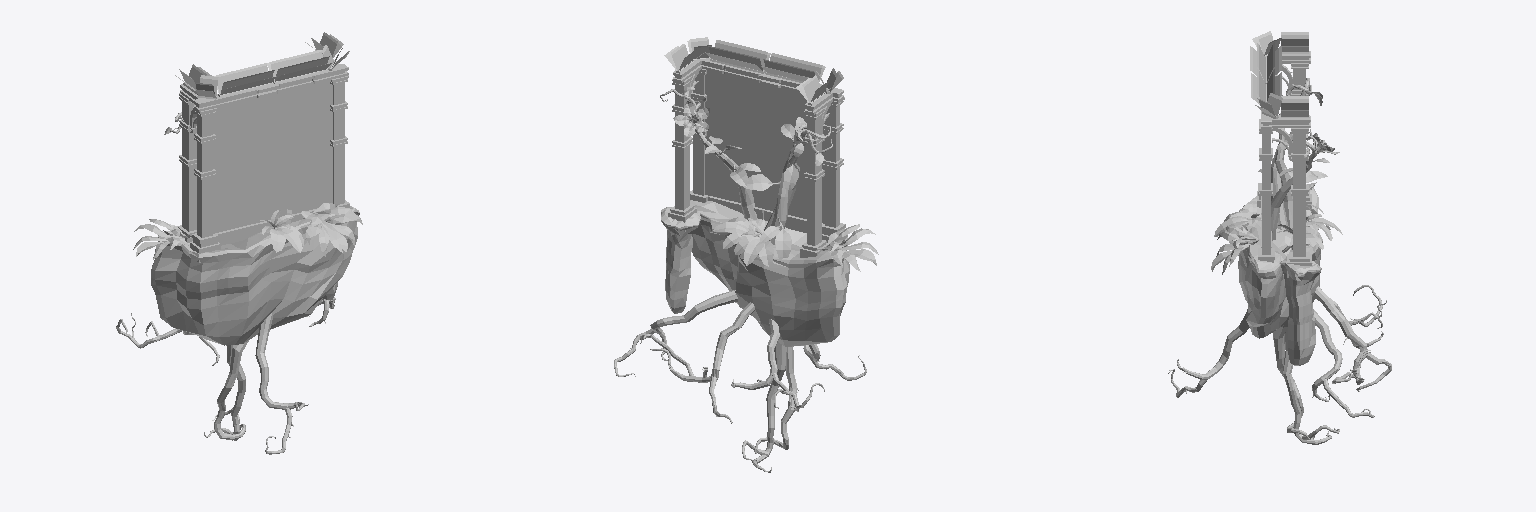
Rendered from spikesDoubleyou.obj.
3 renders of one model, left to right at view 1: azimuth 30°, elevation 25°; view 2: azimuth 150°, elevation 25°; view 3: azimuth 270°, elevation 25°, orthographic.
Visible parts, largest first — view 1: spikesDoubleyou PlatfprmsAndSpikes; view 2: spikesDoubleyou PlatfprmsAndSpikes; view 3: spikesDoubleyou PlatfprmsAndSpikes.
Part boxes in pixels (bbox=[...]): spikesDoubleyou PlatfprmsAndSpikes: bbox=[116, 32, 362, 454]; spikesDoubleyou PlatfprmsAndSpikes: bbox=[614, 37, 878, 472]; spikesDoubleyou PlatfprmsAndSpikes: bbox=[1168, 31, 1391, 444].
Bounding box in the file's own units: 26.49 × 42.64 × 22.46.